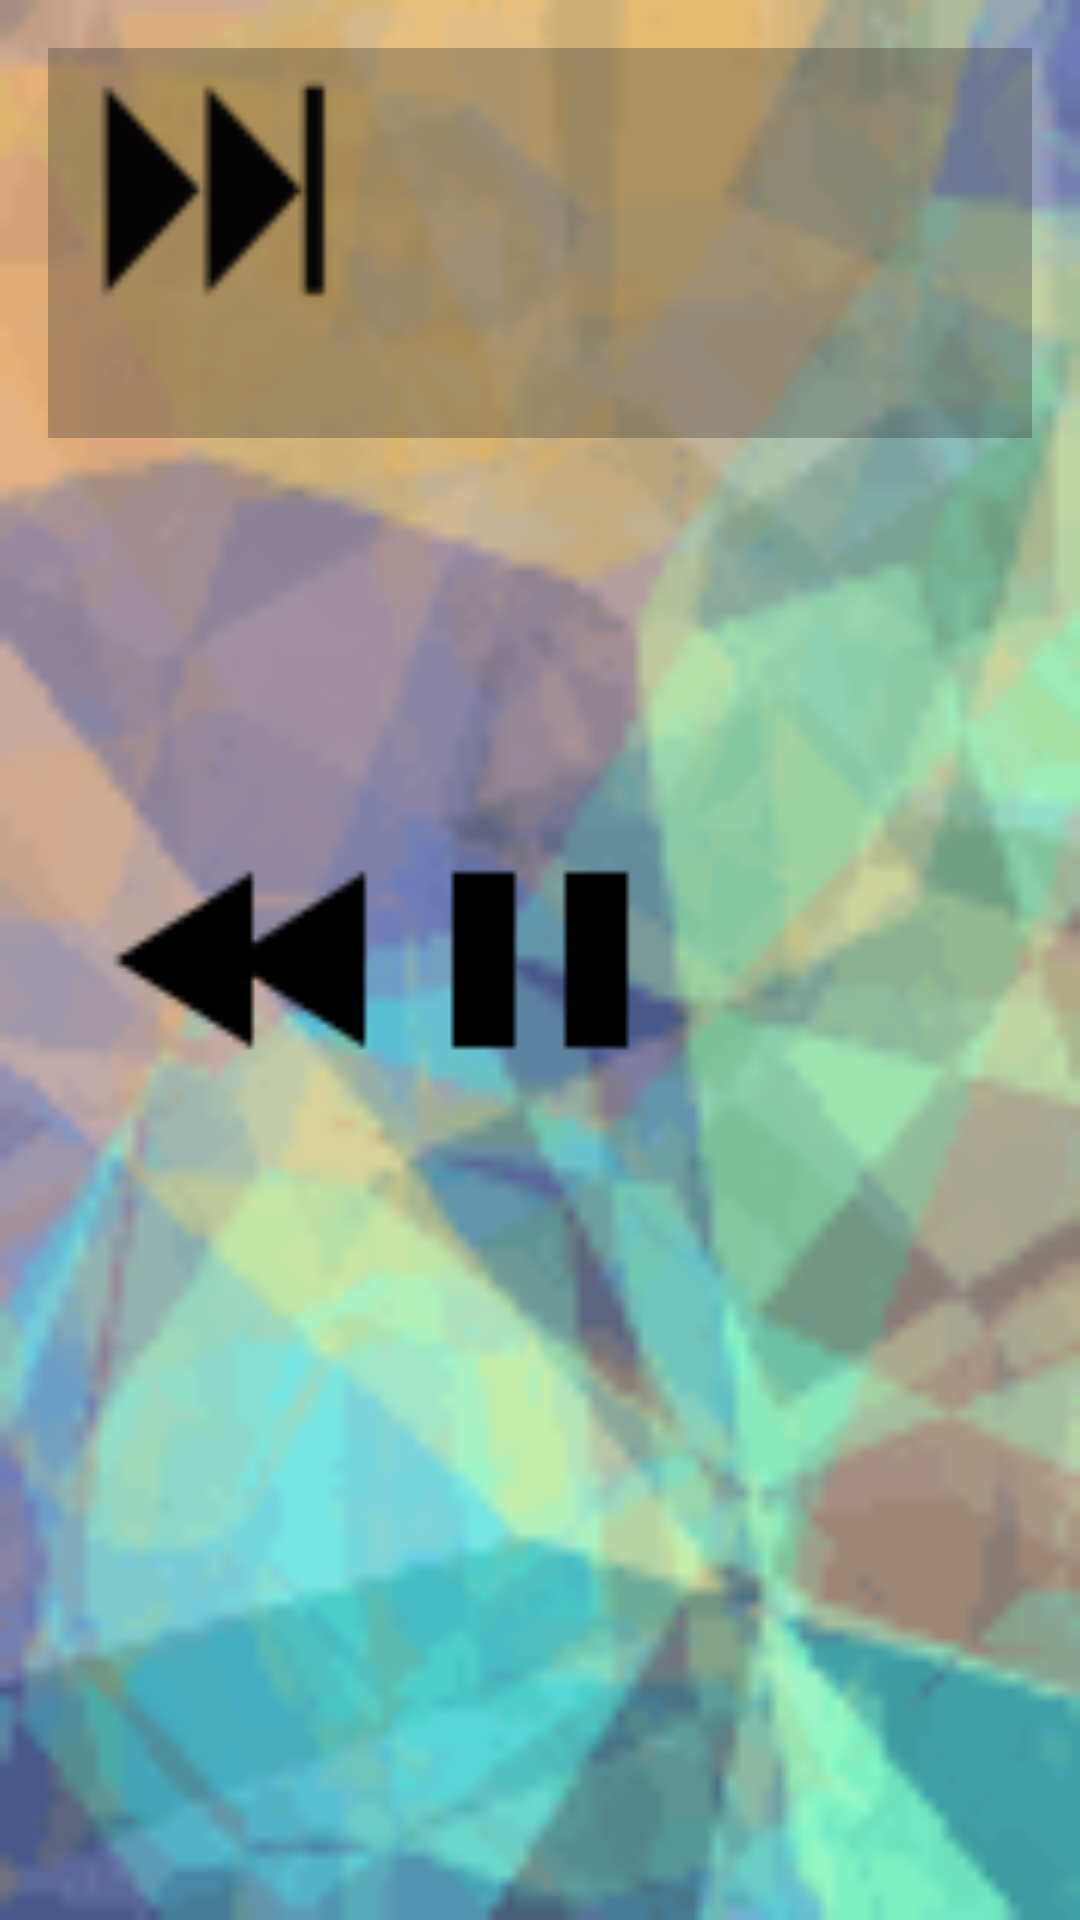

Where to tap for icons on this 1080x1920 app screen, as point (x, y):
pause: point (540, 960)
rewind: point (240, 960)
skip: point (213, 189)
